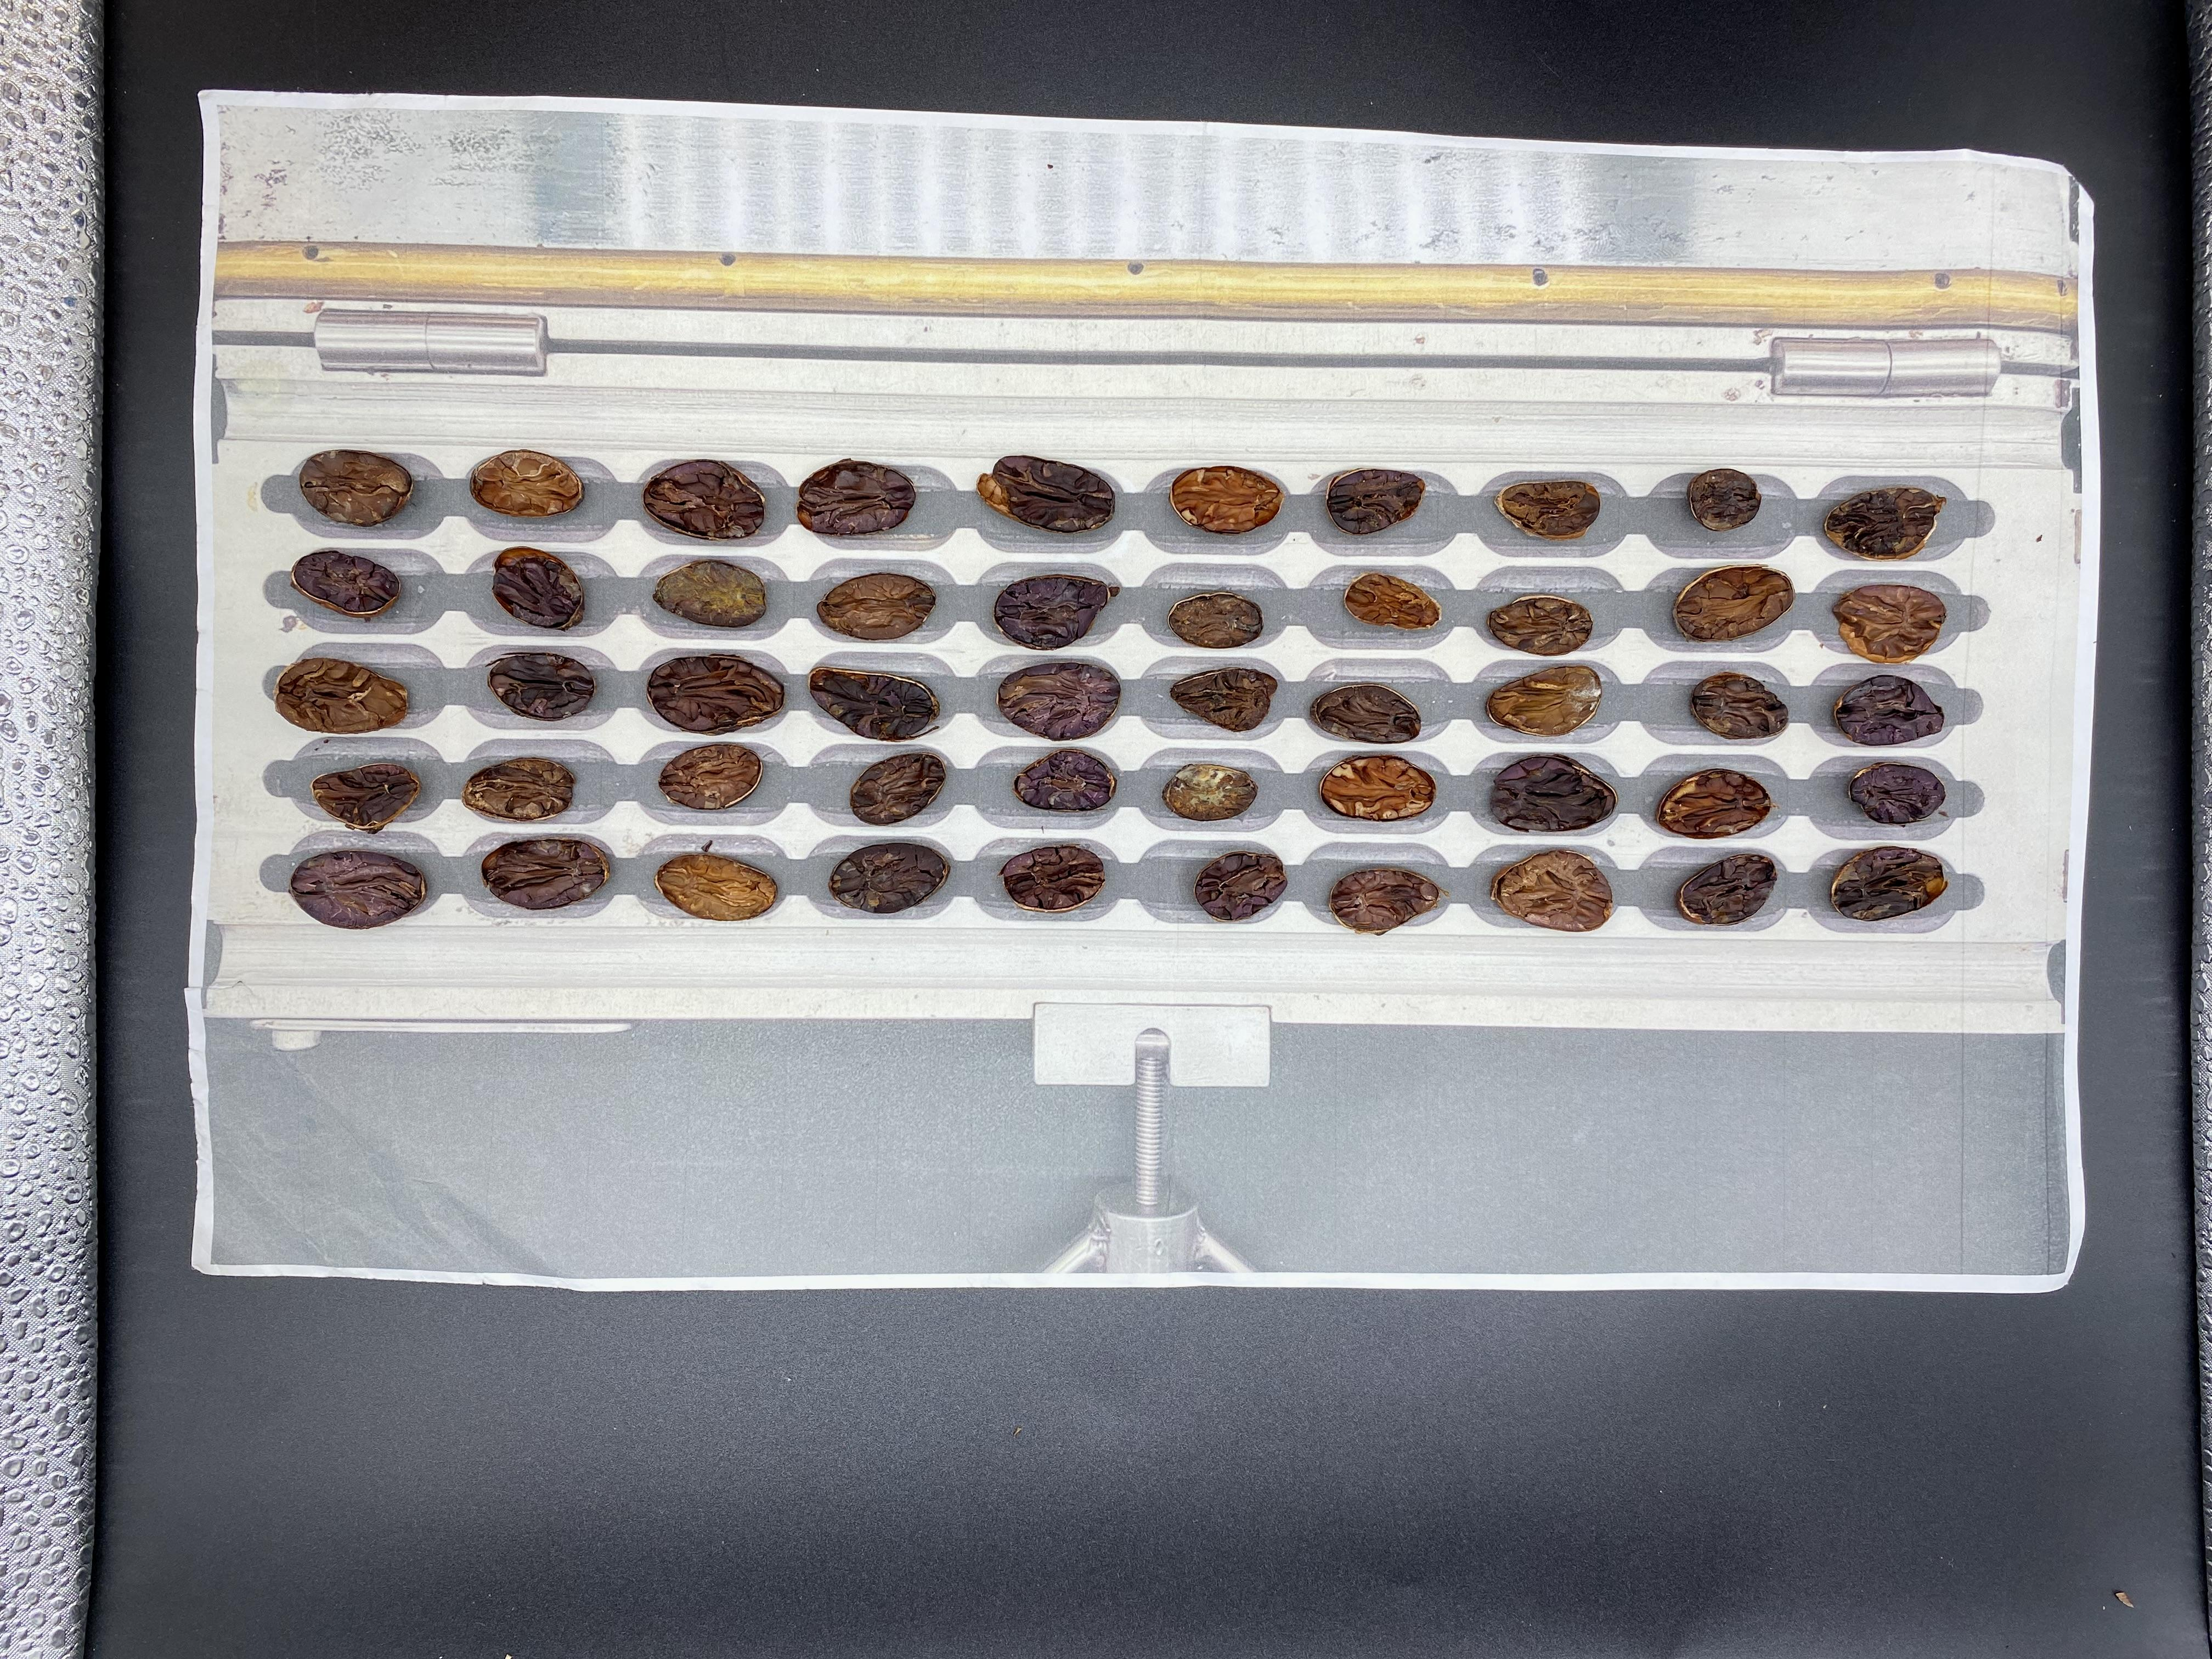Brown - G1: (322, 1141, 404, 1192), (665, 1195, 733, 1239), (927, 1112, 991, 1157), (589, 1049, 657, 1091), (232, 1197, 298, 1239), (838, 1204, 904, 1244), (678, 1103, 737, 1141), (752, 1115, 813, 1152)
Brown - G2: (752, 1244, 829, 1297), (132, 1148, 216, 1194), (232, 1040, 303, 1084), (671, 1251, 735, 1298), (592, 1150, 653, 1194), (333, 1190, 392, 1234)
Brown - G3: (146, 1040, 214, 1087), (846, 1101, 914, 1147), (329, 1246, 402, 1288), (409, 1105, 482, 1145), (758, 1056, 819, 1094)
Brown - G4: (592, 1114, 646, 1150)
Insect-damaged: (327, 1096, 397, 1138)
Mouldy: (752, 1150, 819, 1194), (585, 1199, 646, 1239)
Partly Purple - G1: (752, 1197, 824, 1243), (503, 1243, 566, 1283)
Partly Purple - G2: (502, 1148, 573, 1197), (402, 1044, 472, 1093), (240, 1237, 317, 1281), (925, 1244, 993, 1290), (408, 1154, 481, 1195), (603, 1244, 660, 1290), (848, 1248, 907, 1291), (669, 1051, 730, 1093)
Total Purple - G2: (930, 1159, 991, 1199), (510, 1195, 571, 1232)
Total Purple - G3: (143, 1243, 223, 1293), (500, 1105, 571, 1152), (143, 1091, 207, 1138), (937, 1202, 993, 1239)
Very Dark Brown - G1: (491, 1042, 570, 1093), (923, 1060, 993, 1107), (246, 1091, 303, 1143)
Very Dark Brown - G2: (326, 1046, 394, 1093), (153, 1199, 221, 1244), (242, 1147, 307, 1187), (428, 1195, 484, 1239), (855, 1155, 911, 1197)
Very Dark Brown - G3: (418, 1241, 486, 1284), (662, 1161, 726, 1199), (853, 1053, 899, 1093)
